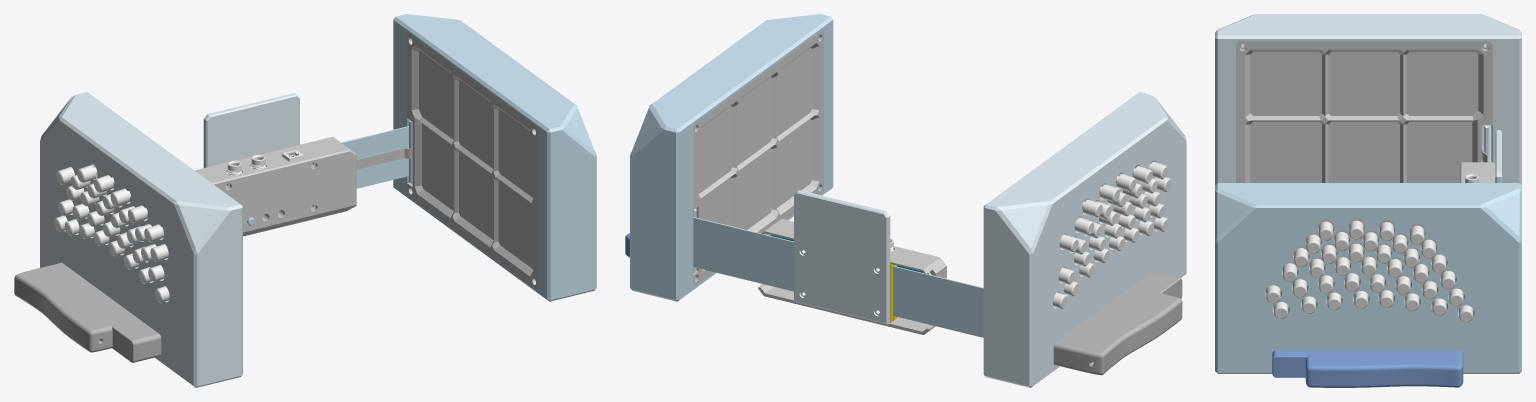
File: Bandolibre.glb
3 views of the same model, side by side, from view 1: azimuth 30°, elevation 25°; view 2: azimuth 150°, elevation 25°; view 3: azimuth 270°, elevation 25° (orthographic).
Visible parts, largest first — view 1: Left Side, Right Cover, Right Side, Main PCB Case, Left Handle, Plank, Spring Blade, Part 27; view 2: Left Side, Right Side, Right Cover, Plank, Spring Blade, Left Handle, Main PCB Case; view 3: Right Side, Left Cover, Left Side, Right Handle, Right Cover, Main PCB Case, Plank.
Boxes of the visible parts, <box> form: Left Side: <box>40,92,242,387</box>; Right Cover: <box>407,33,537,289</box>; Right Side: <box>393,14,596,301</box>; Main PCB Case: <box>195,137,356,236</box>; Left Handle: <box>14,262,161,362</box>; Plank: <box>203,93,299,167</box>; Spring Blade: <box>341,126,408,188</box>; Part 27: <box>356,148,412,169</box>; Left Side: <box>983,92,1186,387</box>; Right Side: <box>630,14,833,301</box>; Right Cover: <box>693,30,823,286</box>; Plank: <box>794,190,890,324</box>; Spring Blade: <box>693,217,983,337</box>; Left Handle: <box>1053,271,1182,375</box>; Main PCB Case: <box>758,219,946,334</box>; Right Side: <box>1215,183,1521,373</box>; Left Cover: <box>1236,41,1492,182</box>; Left Side: <box>1215,14,1521,185</box>; Right Handle: <box>1272,350,1463,387</box>; Right Cover: <box>1265,218,1464,310</box>; Main PCB Case: <box>1460,162,1495,182</box>; Plank: <box>1495,130,1501,182</box>.
Size of the model in its own units: 0.416 by 0.14 by 0.23.
